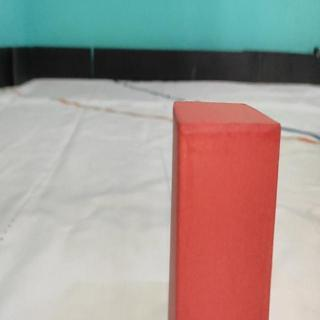redbox: (170, 97, 281, 320)
